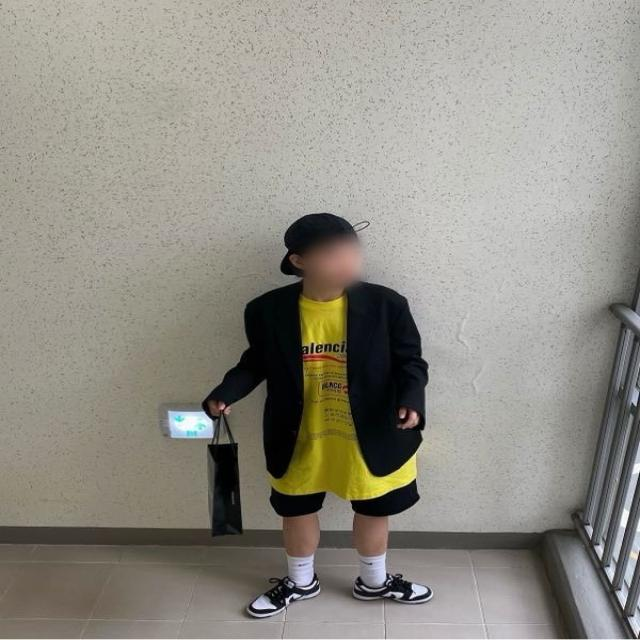blazer: (201, 279, 431, 476)
shortpants: (265, 469, 422, 518)
shortsleeve: (265, 288, 419, 498)
